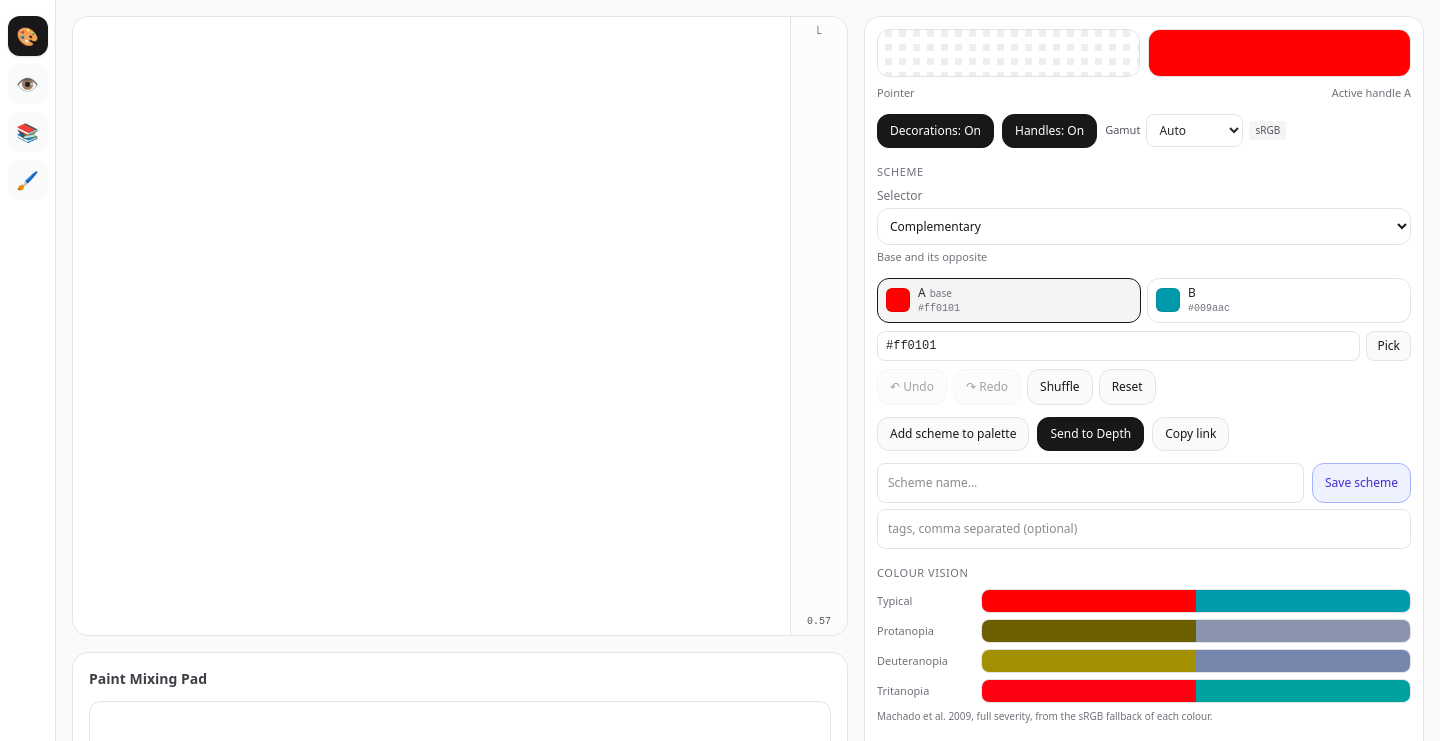
Test: Library page › loads a built-in starter to the artist wheel as a Roles scheme
Click the button named "scheme library".
click(28, 132)  # box [8, 112, 48, 152]
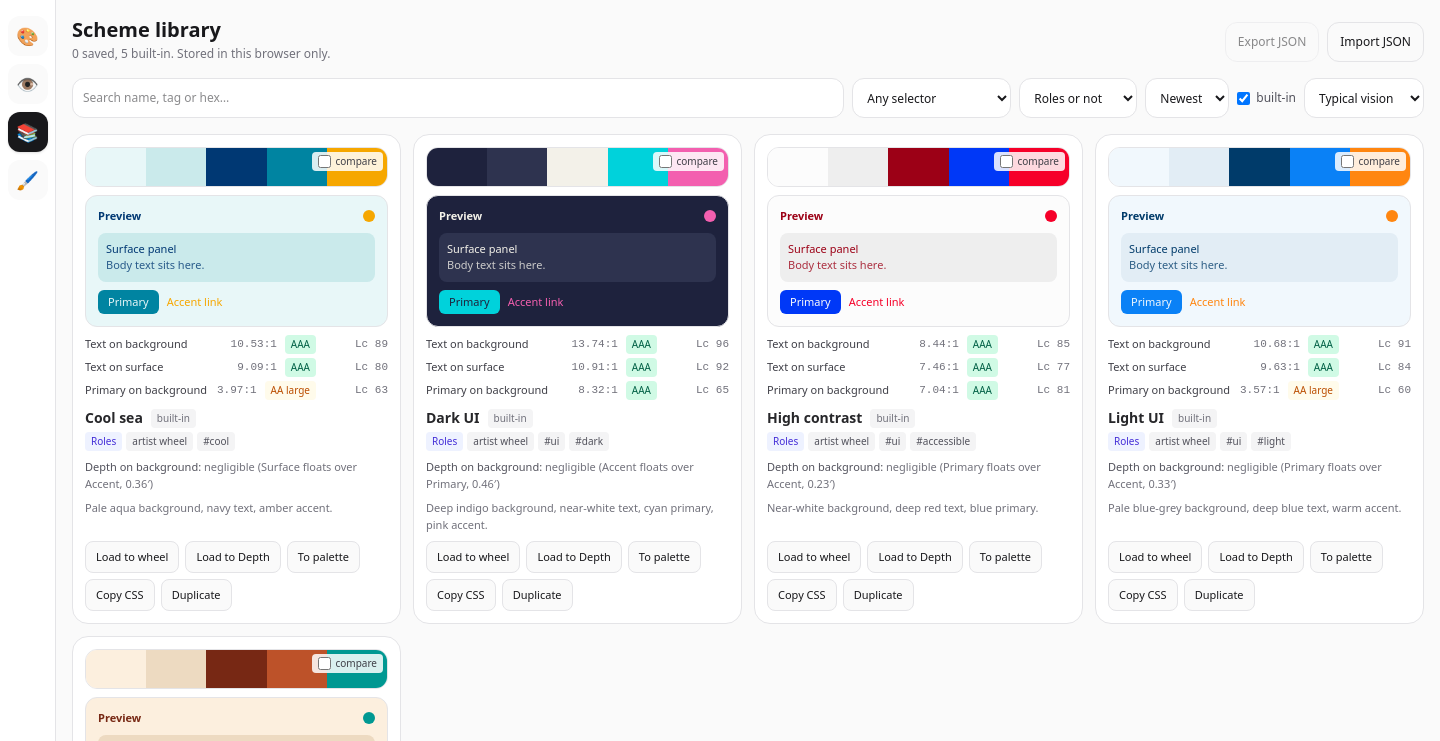
Click the button "Load to wheel" below "0.33".
click(1155, 557)  # box [1108, 541, 1202, 573]
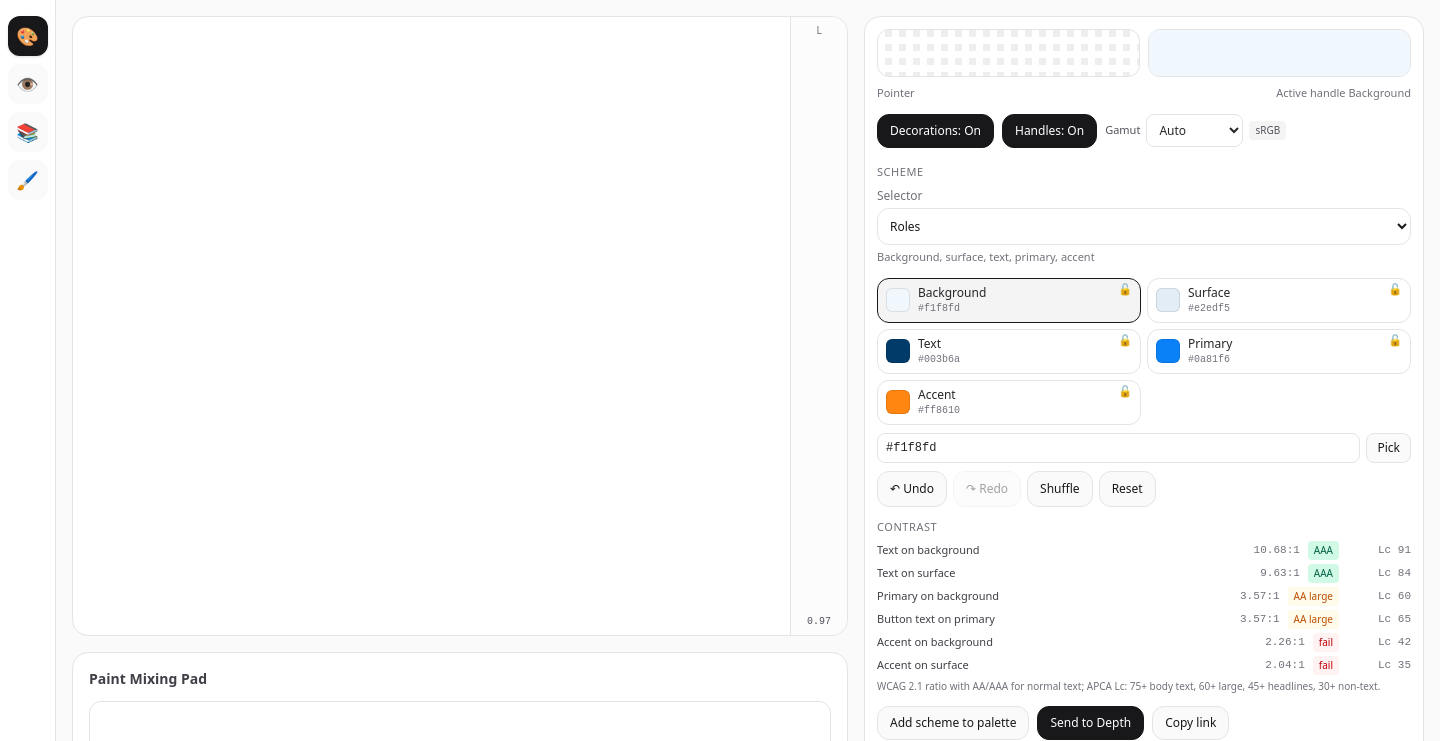
expect the dropdown labelled "Selector" shows "Roles": met, box [877, 208, 1411, 245]
